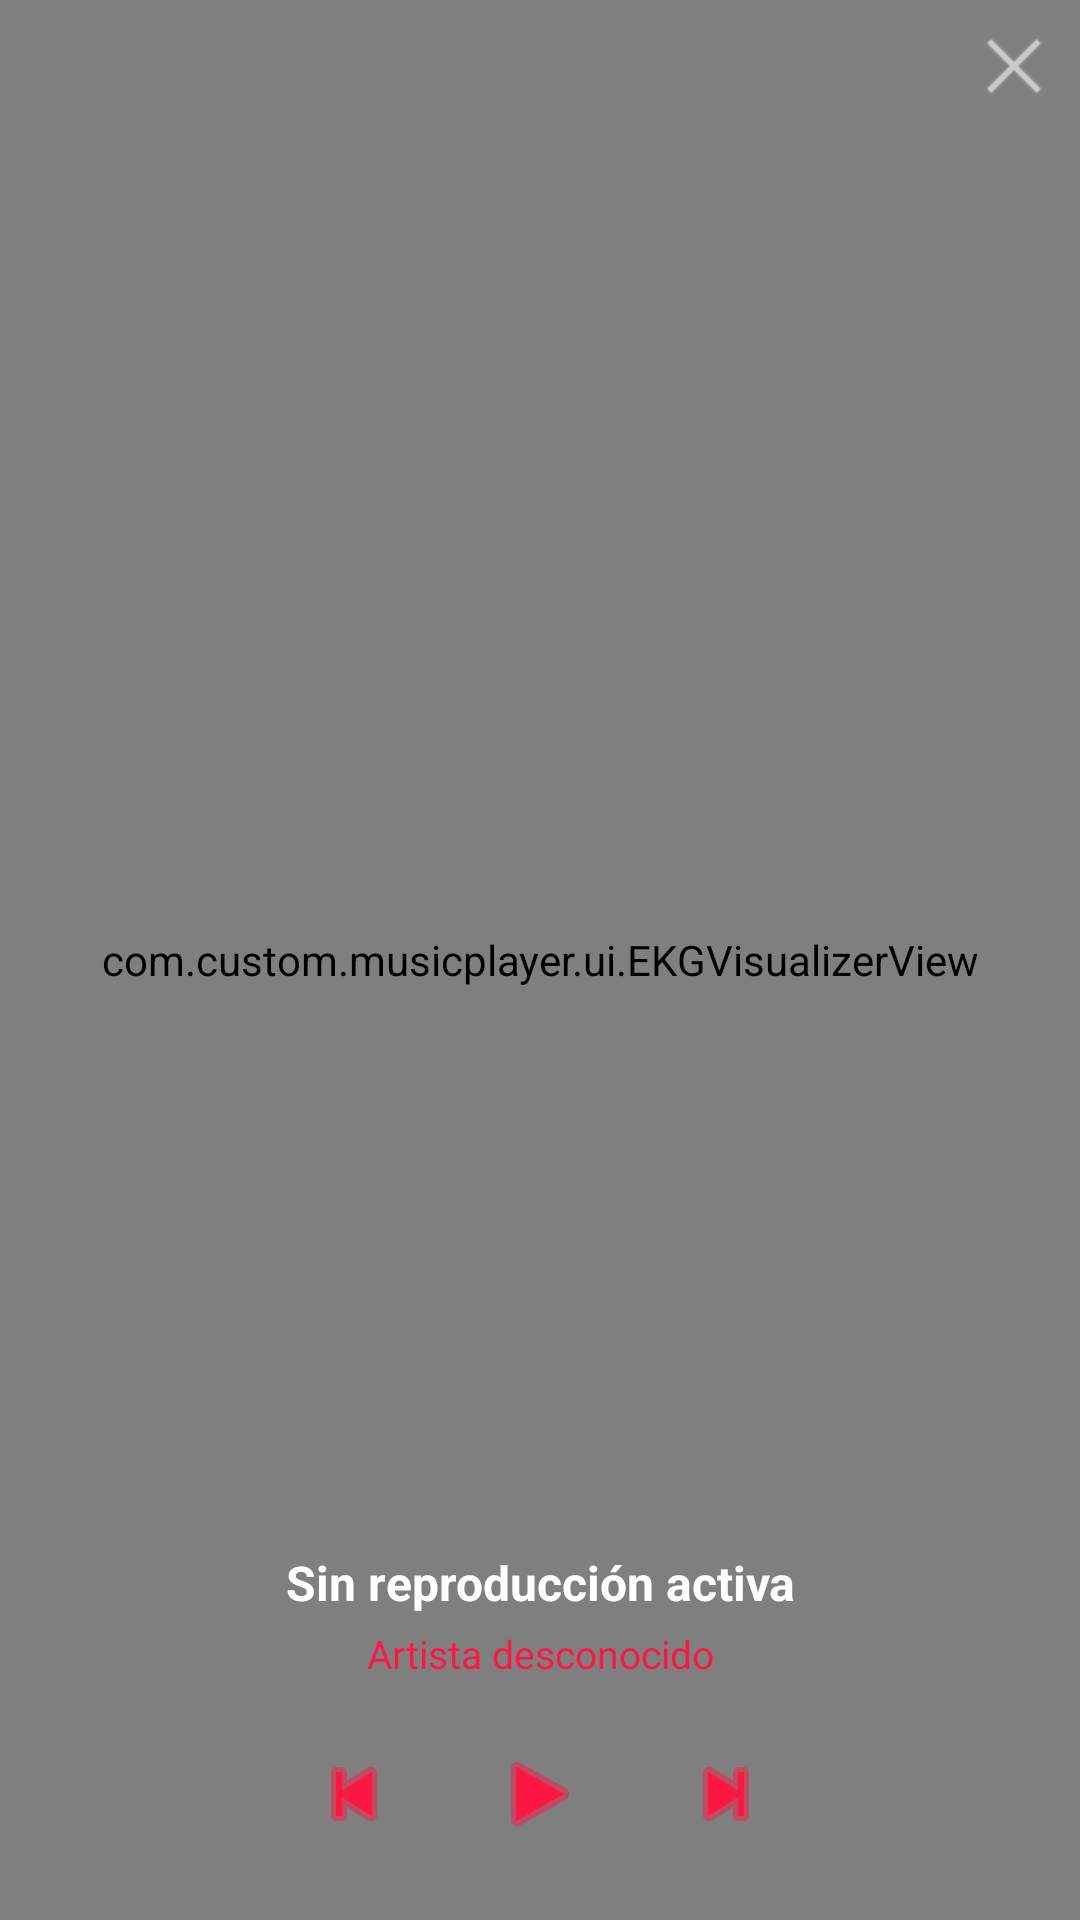

Named icons in this screenshot (1080px x 1920px) and their centers, [x,y]:
Anterior: [354,1794]
Cerrar: [1014,66]
Reproducir o Pausar: [540,1794]
Siguiente: [726,1794]
